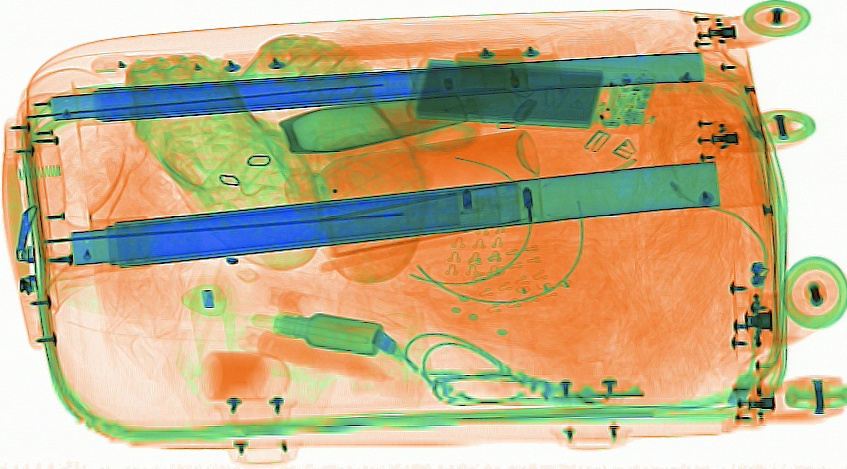pressure: (270, 121, 550, 217)
